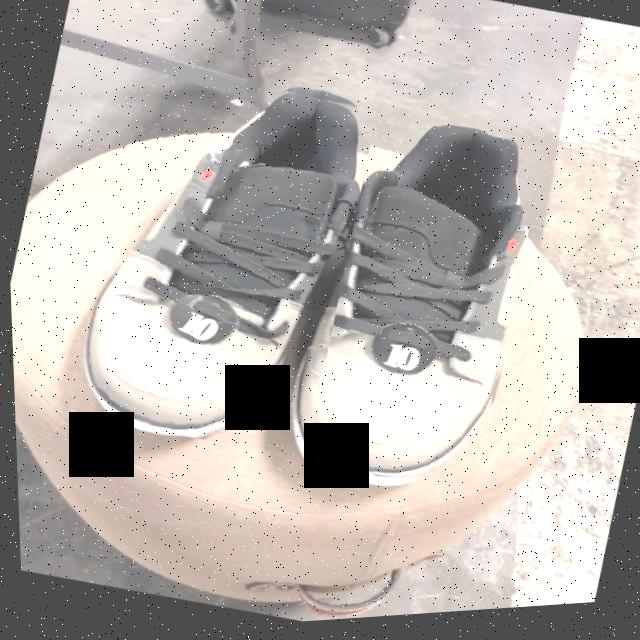shoe: (82, 97, 359, 440), (291, 135, 522, 483)
